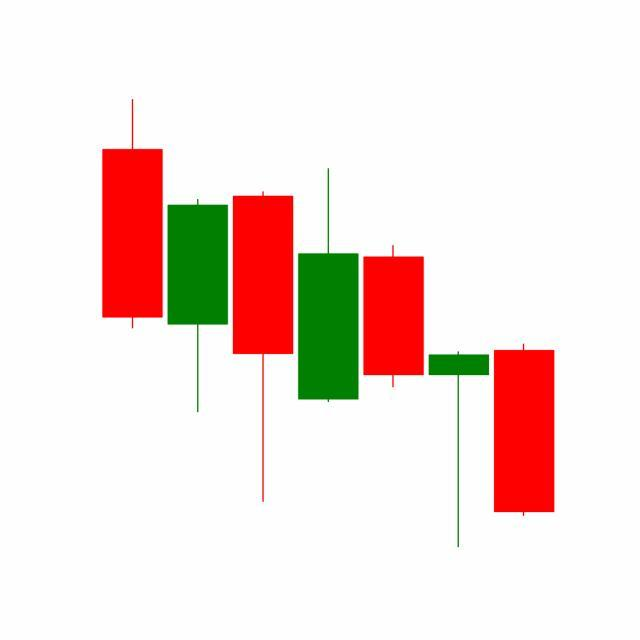Hikkake Pattern: (165, 165, 492, 549)
